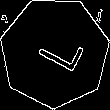L_NW: (26, 28, 84, 77)
